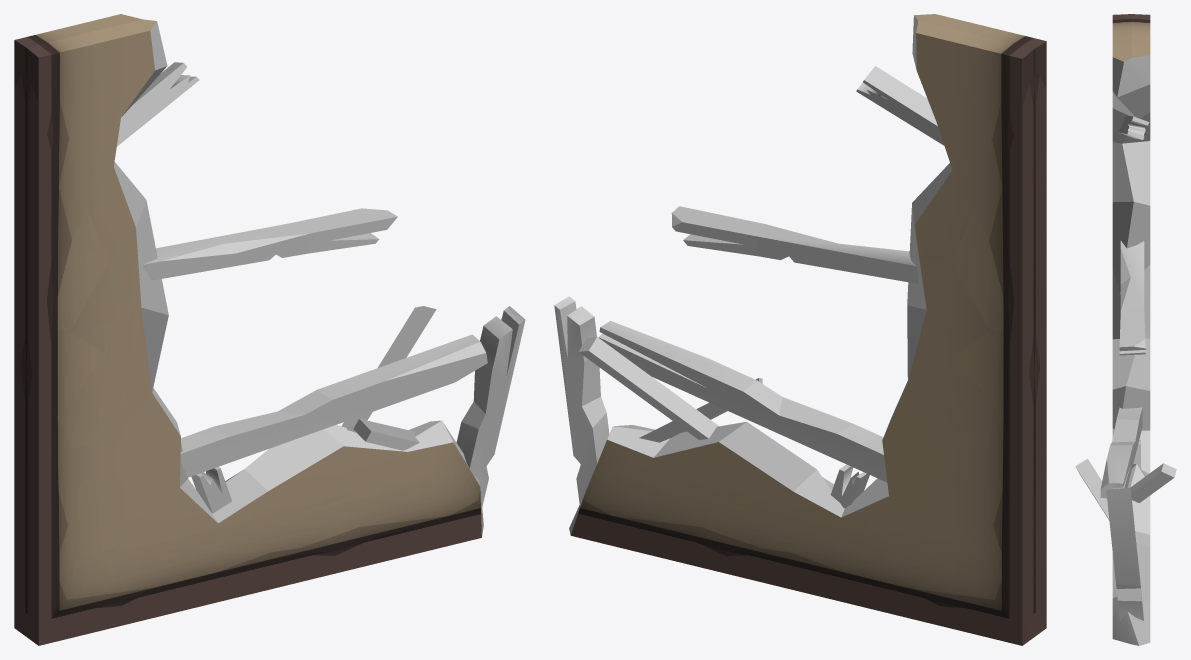
Rendered from SM_Bld_Wall_Destroyed_01.fbx.
3 views of the same model, side by side, from view 1: azimuth 30°, elevation 25°; view 2: azimuth 150°, elevation 25°; view 3: azimuth 270°, elevation 25° (orthographic). The views are drawn at different scales.
Visible parts, largest first — view 1: SM_Bld_Wall_Destroyed_01; view 2: SM_Bld_Wall_Destroyed_01; view 3: SM_Bld_Wall_Destroyed_01.
Boxes of the visible parts, x1,y1,x2,y2 form: SM_Bld_Wall_Destroyed_01: (14,14,525,645); SM_Bld_Wall_Destroyed_01: (554,14,1046,645); SM_Bld_Wall_Destroyed_01: (1075,14,1176,645).
Size of the model in its own units: 258 by 301 by 60.51.
